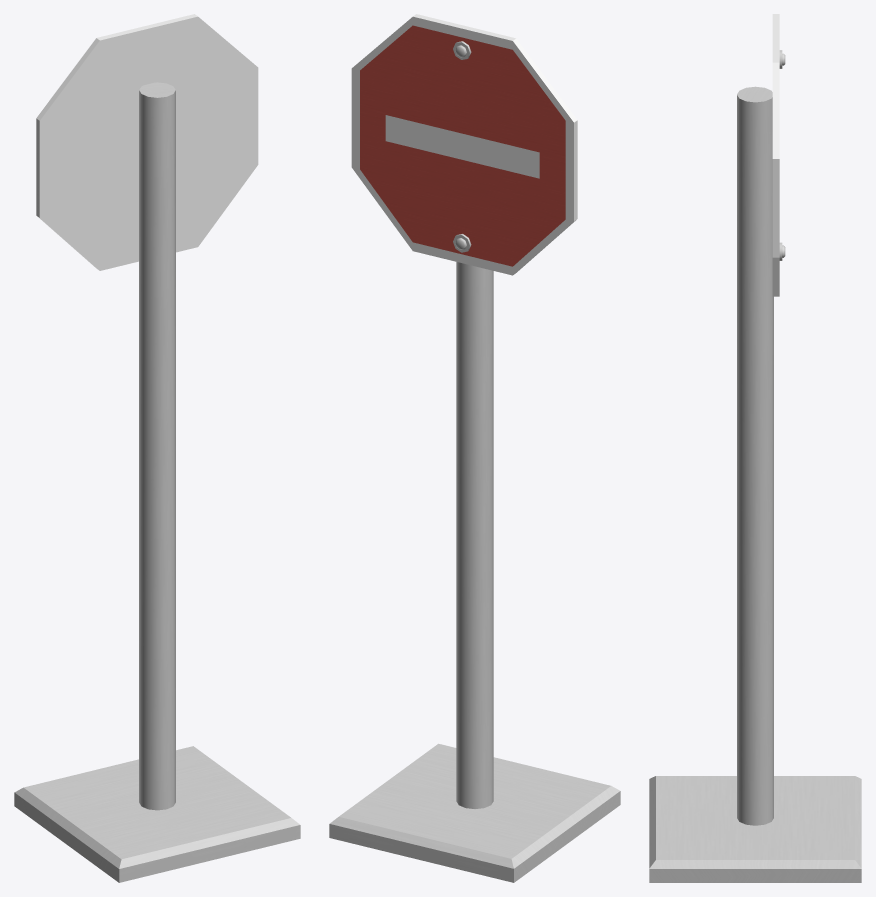
Rendered from stopSign.fbx.
3 views of the same model, side by side, from view 1: azimuth 30°, elevation 25°; view 2: azimuth 150°, elevation 25°; view 3: azimuth 270°, elevation 25° (orthographic).
Visible parts, largest first — view 1: stopSign_lo; view 2: stopSign_lo; view 3: stopSign_lo.
Part boxes in pixels (x1,y1,x2,y2): stopSign_lo: [14, 14, 300, 882]; stopSign_lo: [329, 14, 620, 882]; stopSign_lo: [649, 14, 861, 882].
Size of the model in its own units: 0.714 by 2.46 by 0.5922.
